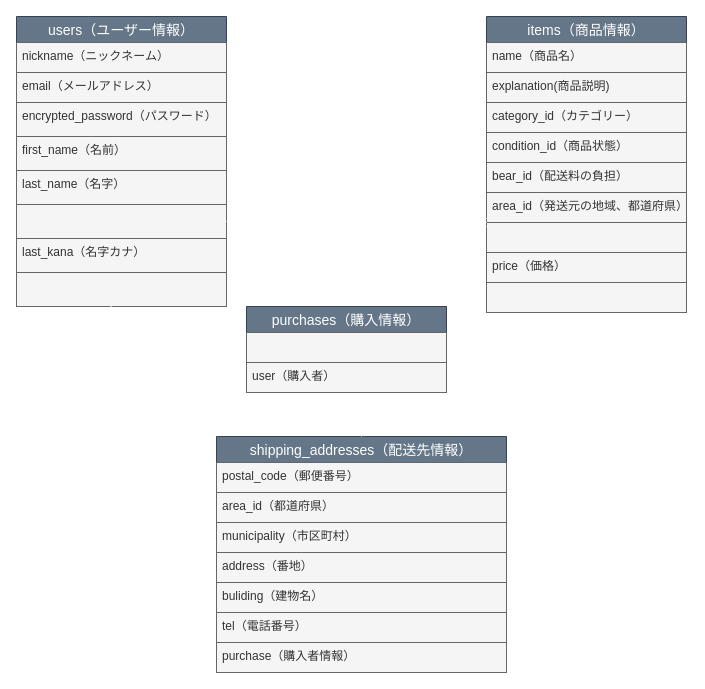
The diagram is 705 pixels wide and 689 high, and some of its shapes have lost their labels. Each missing label, with the centre of its shape:
"birthday（生年月日）" goes at [121,289].
"delivery_day_id（発送までの日数）" goes at [586,237].
"first_kana（名前カナ）" goes at [121,221].
"item（購入する商品）" goes at [346,347].
"user（出品者）" goes at [586,297].
